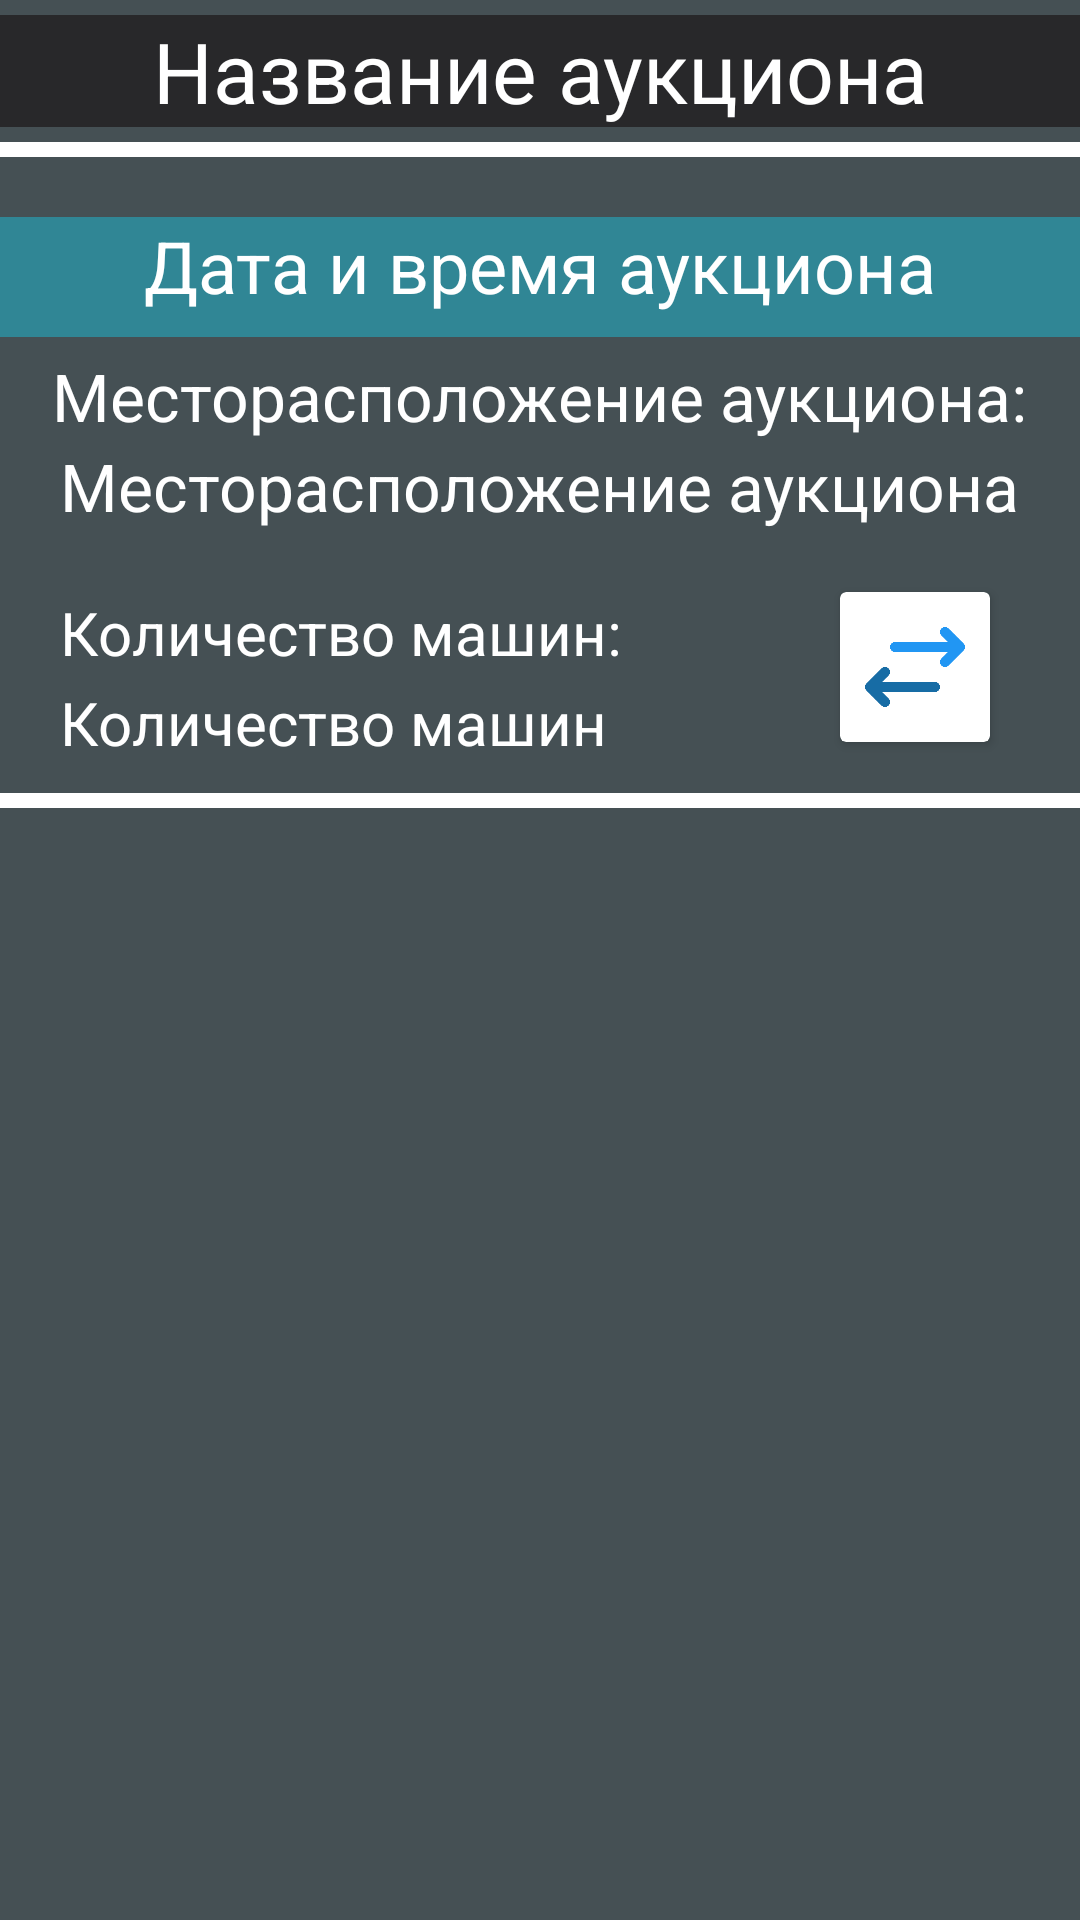

Icons on this 1080px x 1920px Android screen, each with its box as (left=x1, top=y1, right=x2, bottom=y2):
transaction: (left=865, top=627, right=965, bottom=707)
